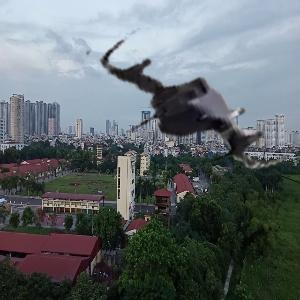drone: (89, 12, 289, 212)
